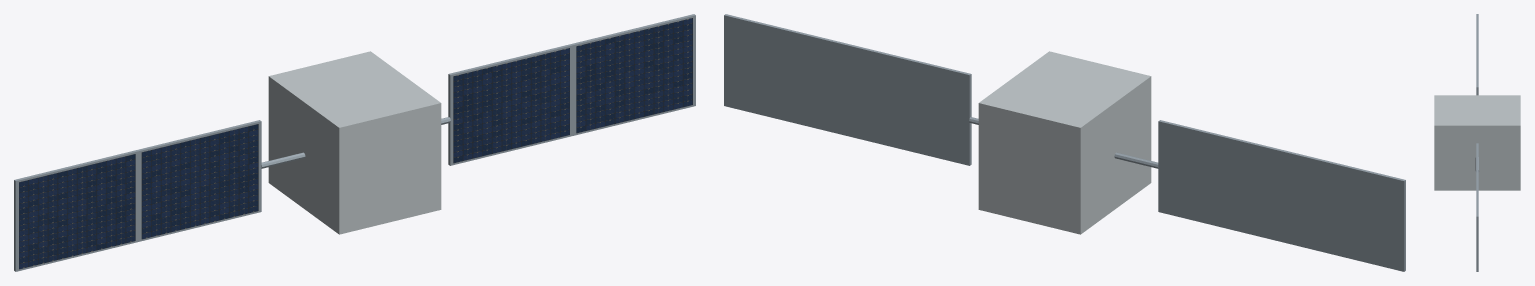
Rendered from ref-tansat-41898.glb.
3 renders of one model, left to right at view 1: azimuth 30°, elevation 25°; view 2: azimuth 150°, elevation 25°; view 3: azimuth 270°, elevation 25°, orthographic. The views are drawn at different scales.
Parts seen in each view (by area): view 1: Photovoltaic laminates (×4), Spacecraft body, Array frame (×4); view 2: Array frame (×4), Spacecraft body; view 3: Spacecraft body, Array frame (×4).
Part boxes in pixels (<box>): Photovoltaic laminates (×4): <box>19,18,692,269</box>; Spacecraft body: <box>268,51,441,234</box>; Array frame (×4): <box>14,14,695,271</box>; Array frame (×4): <box>724,14,1405,271</box>; Spacecraft body: <box>978,51,1151,234</box>; Spacecraft body: <box>1434,95,1520,190</box>; Array frame (×4): <box>1476,14,1478,271</box>.
Size of the model in its own units: 10 by 1.5 by 1.8.
Materials: 3 (1 with a texture image).
